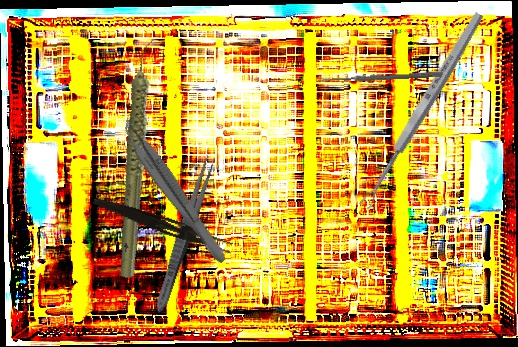Dressing Forceps: (150, 152, 219, 316), (90, 195, 235, 254)
Handpiece: (70, 36, 208, 282)
Surgical Spoon: (357, 10, 486, 211), (317, 70, 443, 84)
Tissue Forceps: (113, 114, 237, 266)
